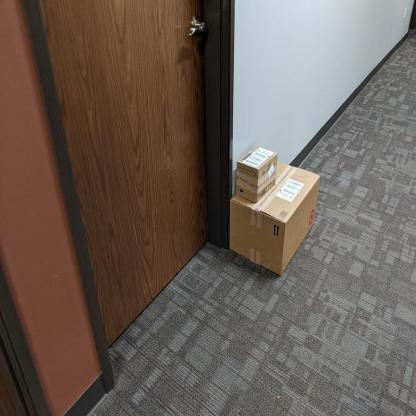package: (227, 158, 324, 277), (232, 144, 281, 204)
